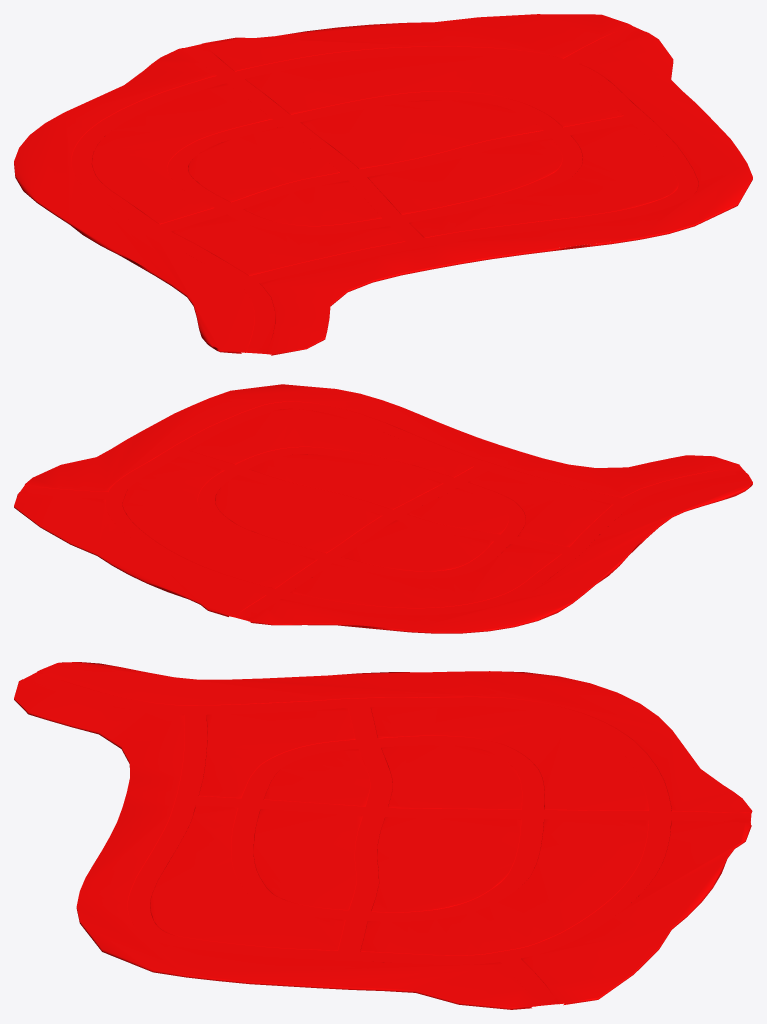
File: boden_dorf_colmesh.fbx
The picture shows the model from 3 angles, top to bottom: view 1: azimuth 30°, elevation 25°; view 2: azimuth 150°, elevation 25°; view 3: azimuth 270°, elevation 25°; orthographic projection. The views are drawn at different scales.
Visible parts, largest first — view 1: Mesh; view 2: Mesh; view 3: Mesh.
Part boxes in pixels (x1,y1,x2,y2): Mesh: (14,14,752,355); Mesh: (14,384,752,633); Mesh: (14,662,752,1009).
Size of the model in its own units: 25368 by 100 by 22965.
